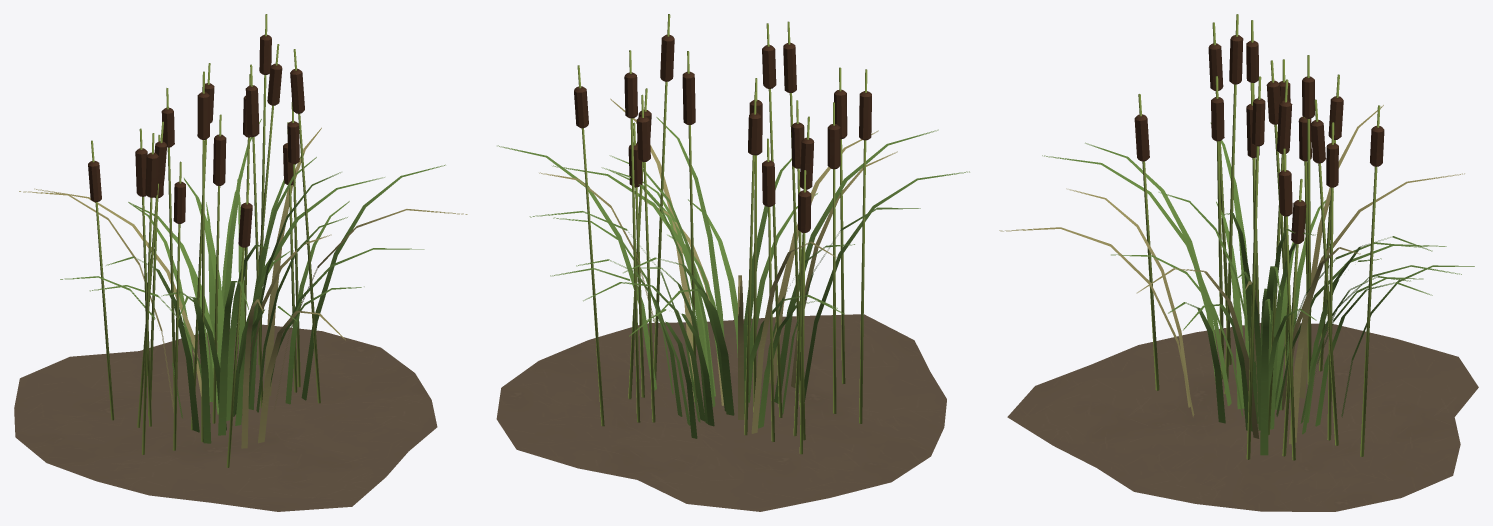
The model's file is cattail_clump.glb.
3 views of the same model, side by side, from view 1: azimuth 30°, elevation 25°; view 2: azimuth 150°, elevation 25°; view 3: azimuth 270°, elevation 25° (orthographic). The views are drawn at different scales.
Parts seen in each view (by area): view 1: cattail_clump; view 2: cattail_clump; view 3: cattail_clump.
Boxes of the visible parts, bbox=[...] form: cattail_clump: bbox=[14, 14, 467, 511]; cattail_clump: bbox=[496, 14, 969, 511]; cattail_clump: bbox=[999, 14, 1478, 511].
Bounding box in the file's own units: 2.41 × 2.11 × 2.36.
Materials: 5 (5 with a texture image).
